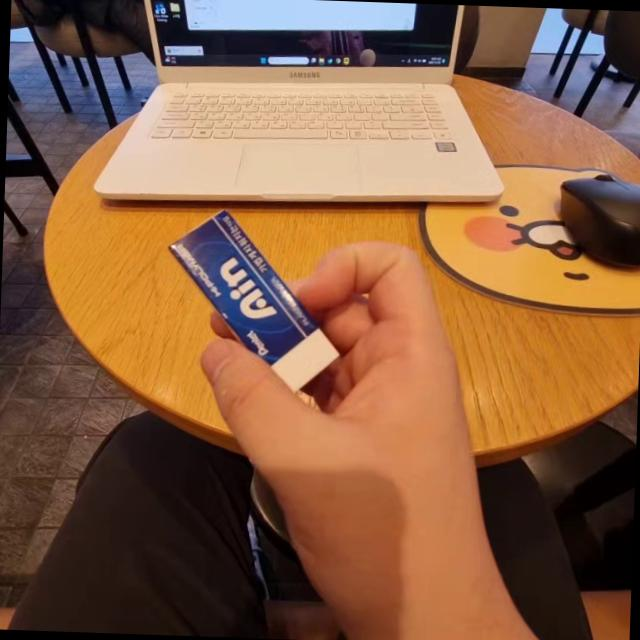eraser: (172, 208, 324, 384)
grab_eraser: (140, 211, 486, 583)
hand: (271, 242, 475, 593)
mouse: (552, 174, 640, 273)
